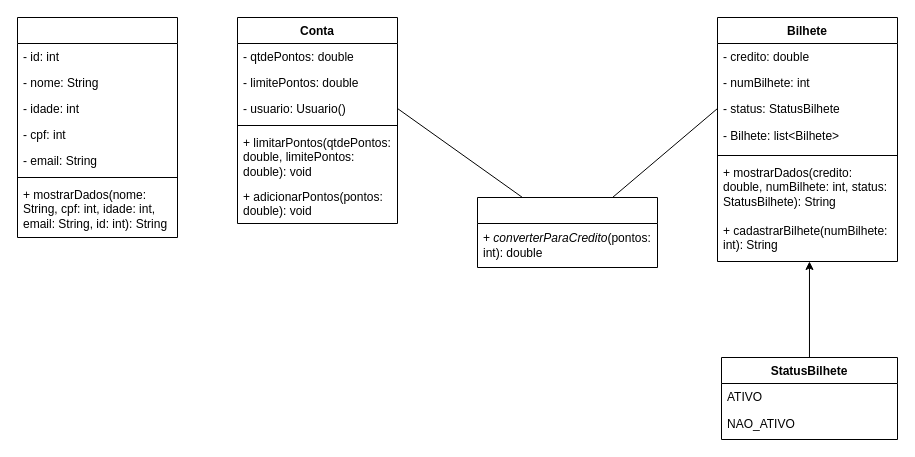
The diagram is 915 pixels wide and 457 high, and some of its shapes have lost their labels. The box of each missing label's shape, as (x1, y1, x2, y2) in pixels:
ConvesorPontos: (476, 196, 658, 268)
Usuario: (16, 16, 178, 238)
